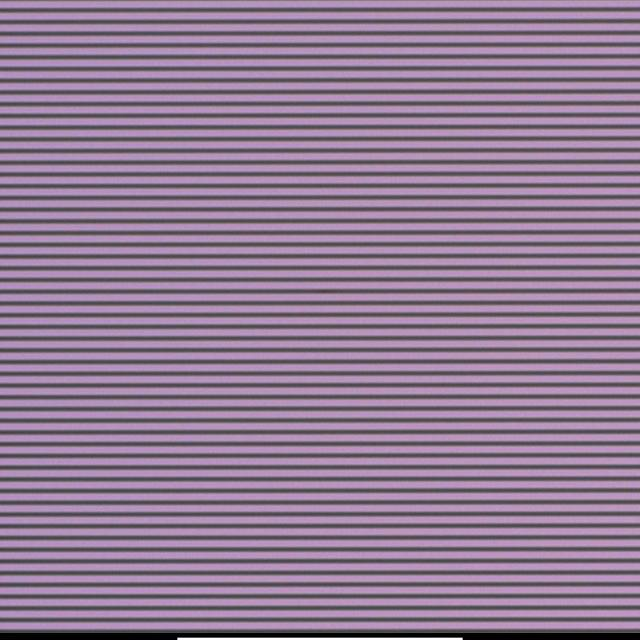03_intrusion: (332, 309, 341, 321)
